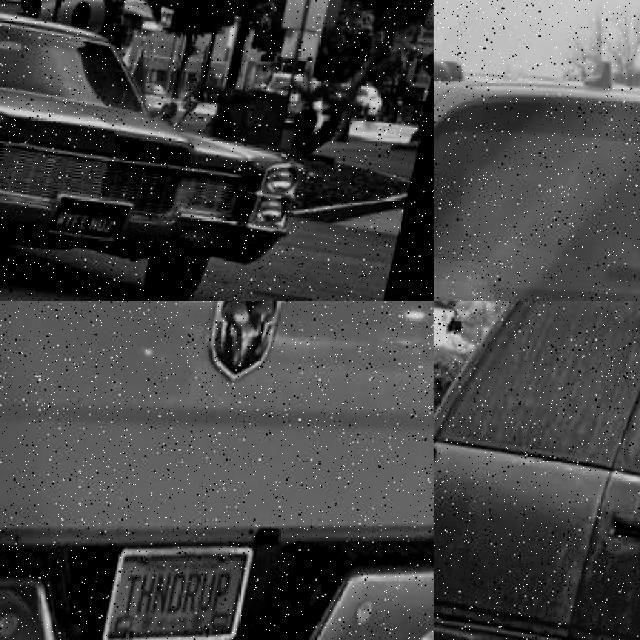LicensePlate: (107, 549, 259, 639), (56, 201, 130, 241)
